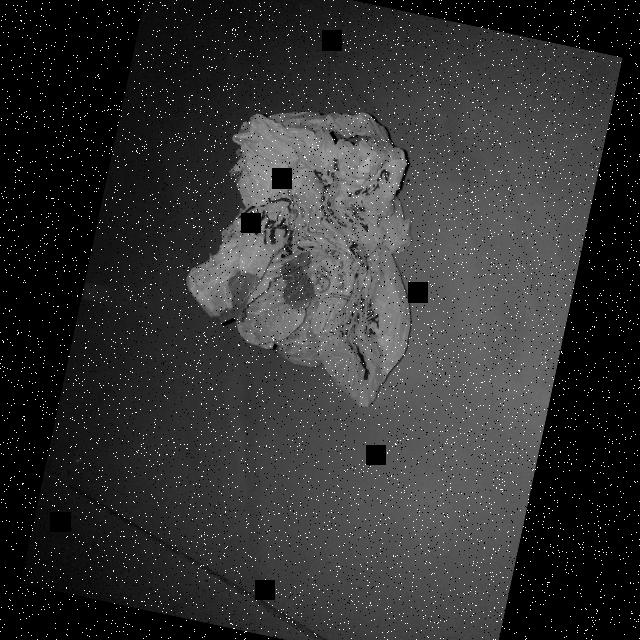plastic_bag: (154, 81, 462, 429)
